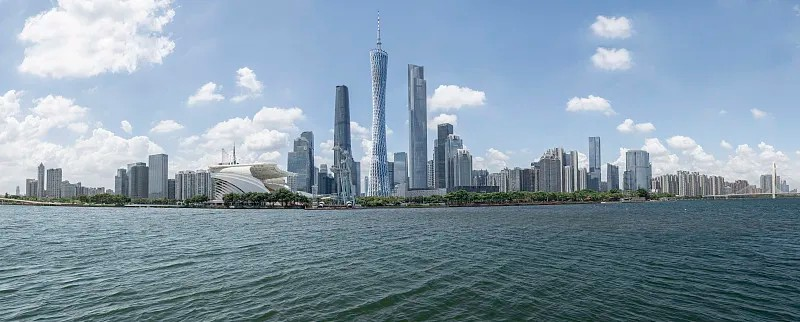Canton: (370, 7, 390, 198)
